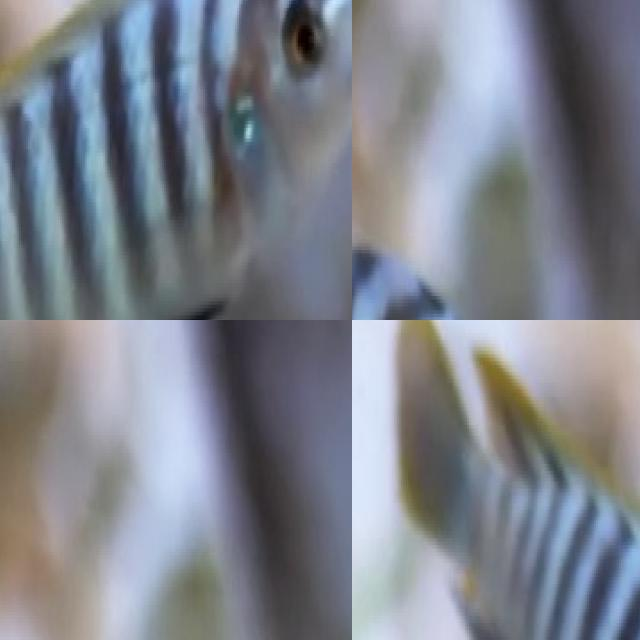fish: (0, 0, 352, 320), (386, 320, 640, 640), (352, 225, 563, 320)
